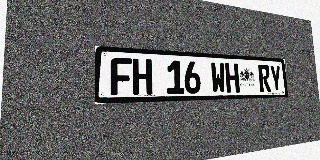1: (166, 60, 184, 94)
6: (184, 61, 201, 94)
F: (111, 57, 132, 95)
H: (132, 58, 152, 95), (225, 63, 240, 93)
R: (258, 65, 271, 92)
W: (210, 62, 226, 93)
Y: (269, 65, 282, 92)
